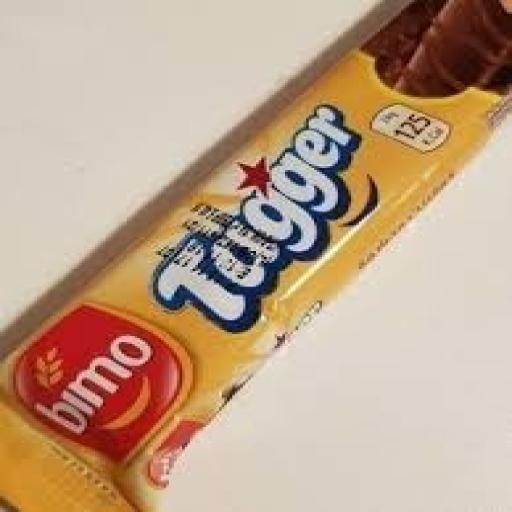tagger: (14, 39, 490, 489)
